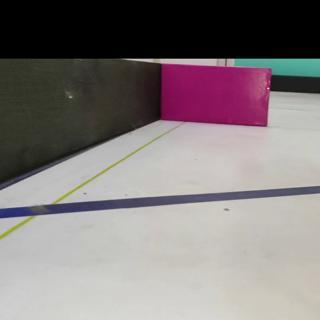xparking: (169, 67, 267, 125)
